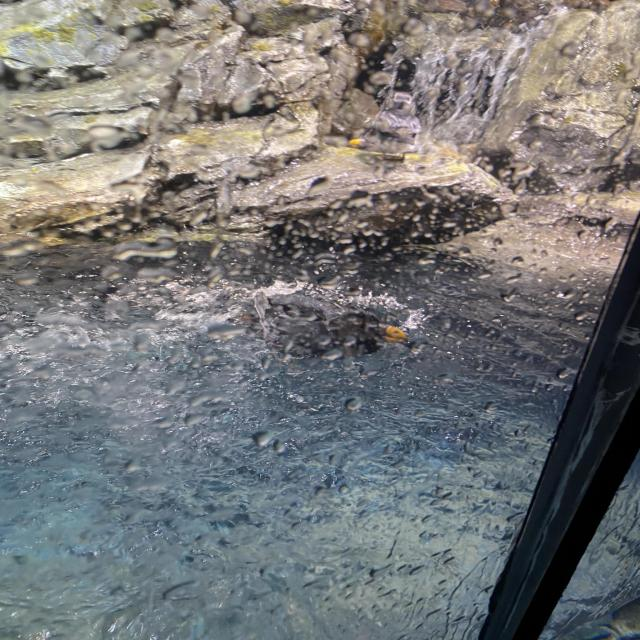puffin: (228, 292, 412, 363), (347, 106, 423, 166)
